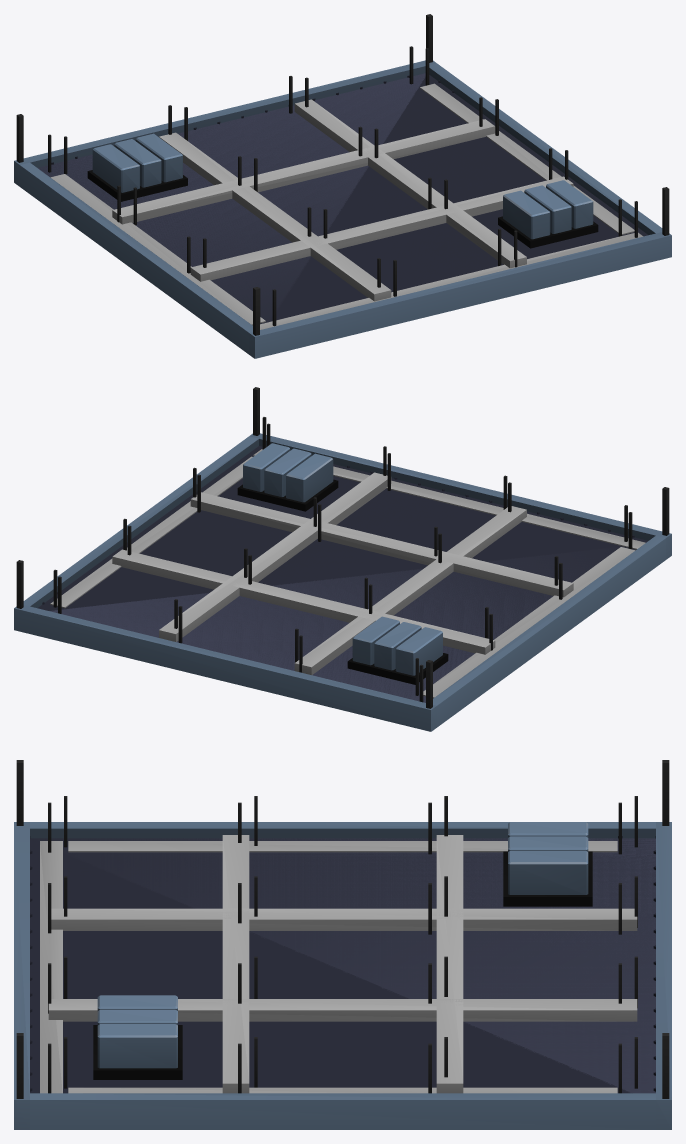
File: veyran_fortified_bunker_foundation.glb
3 views of the same model, one above another, from view 1: azimuth 30°, elevation 25°; view 2: azimuth 150°, elevation 25°; view 3: azimuth 270°, elevation 25° (orthographic). The views are drawn at different scales.
Visible parts, largest first — view 1: body (×3); view 2: body (×3); view 3: body (×3).
Part boxes in pixels (left/top/right/bottom): body (×3): left=14, top=14, right=671, bottom=358; body (×3): left=14, top=387, right=671, bottom=731; body (×3): left=14, top=760, right=671, bottom=1129.
Bounding box in the file's own units: 7.38 × 1.15 × 7.38.
